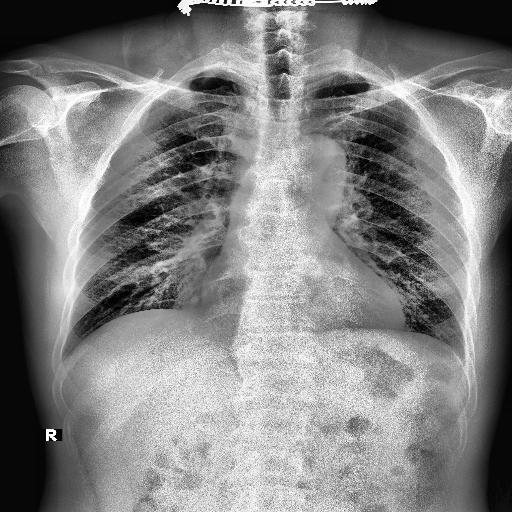0- Aortic enlargement: (282, 132, 348, 210), (288, 134, 346, 194), (298, 132, 348, 187)
